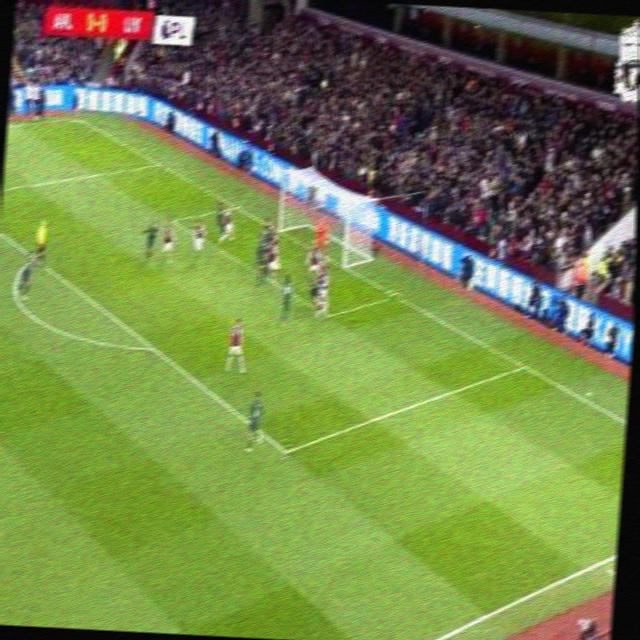bigarea_bottom_inner: (277, 439, 293, 464)
bigarea_bottom_outter: (517, 360, 529, 372)
bigarea_top_outter: (152, 158, 162, 170)
bottom_arc_area_intersection: (144, 338, 160, 356)
corner: (71, 113, 82, 122)
smallarea_bottom_inner: (322, 306, 335, 322)
smallarea_bottom_outter: (388, 287, 402, 304)
smallarea_top_inner: (167, 214, 178, 227)
smallarea_top_outter: (230, 200, 242, 212)
top_arc_area_intersection: (26, 250, 36, 262)
